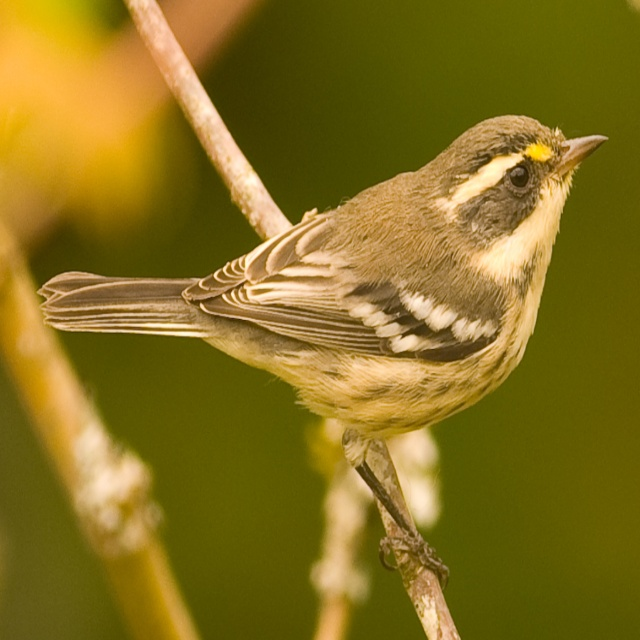Sparrow: (36, 114, 609, 593)
